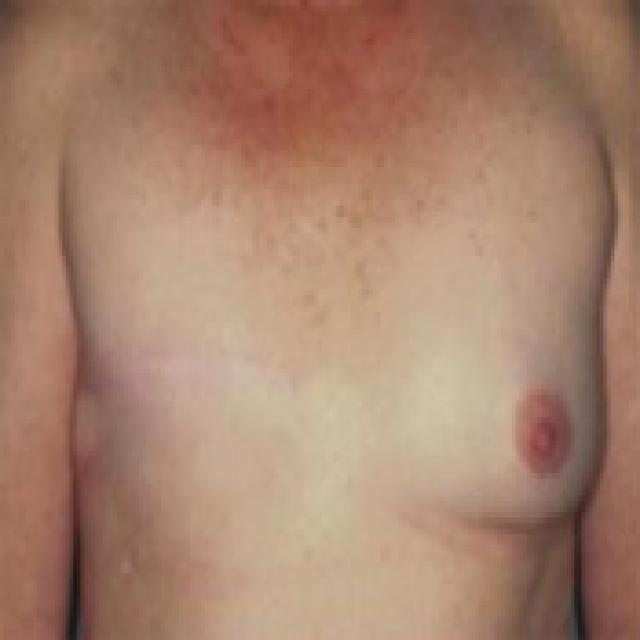Seno herido: (64, 158, 332, 512)
Seno ileso: (338, 158, 617, 576)
